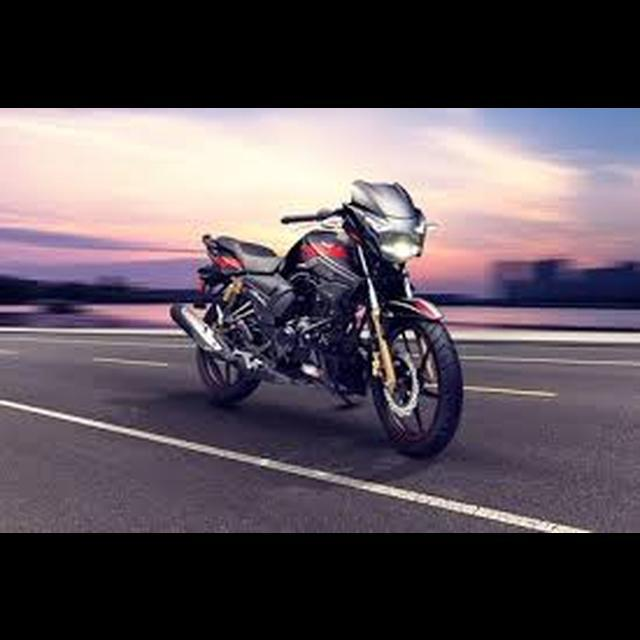motorcycle: (167, 171, 469, 469)
